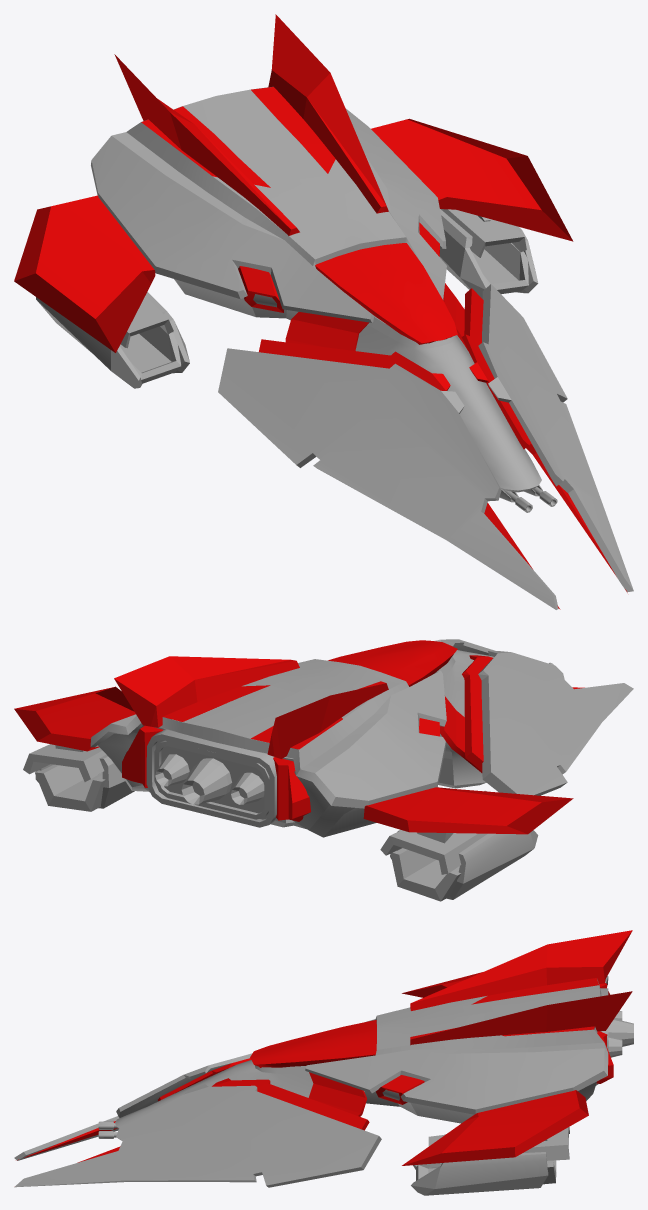
Rendered from Genyx3.fbx.
3 renders of one model, top to bottom at view 1: azimuth 30°, elevation 25°; view 2: azimuth 150°, elevation 25°; view 3: azimuth 270°, elevation 25°, orthographic. The views are drawn at different scales.
Visible parts, largest first — view 1: Genyx3_diffuse, Genyx3_color; view 2: Genyx3_diffuse, Genyx3_color; view 3: Genyx3_diffuse, Genyx3_color.
Part boxes in pixels (box(x1,y1,x2,y2)): Genyx3_diffuse: box(36, 86, 633, 609); Genyx3_color: box(14, 14, 627, 609); Genyx3_diffuse: box(23, 639, 633, 901); Genyx3_color: box(14, 640, 584, 834); Genyx3_diffuse: box(14, 975, 633, 1195); Genyx3_color: box(17, 930, 632, 1165).
Size of the model in its own units: 6.7 by 3.44 by 9.05.
